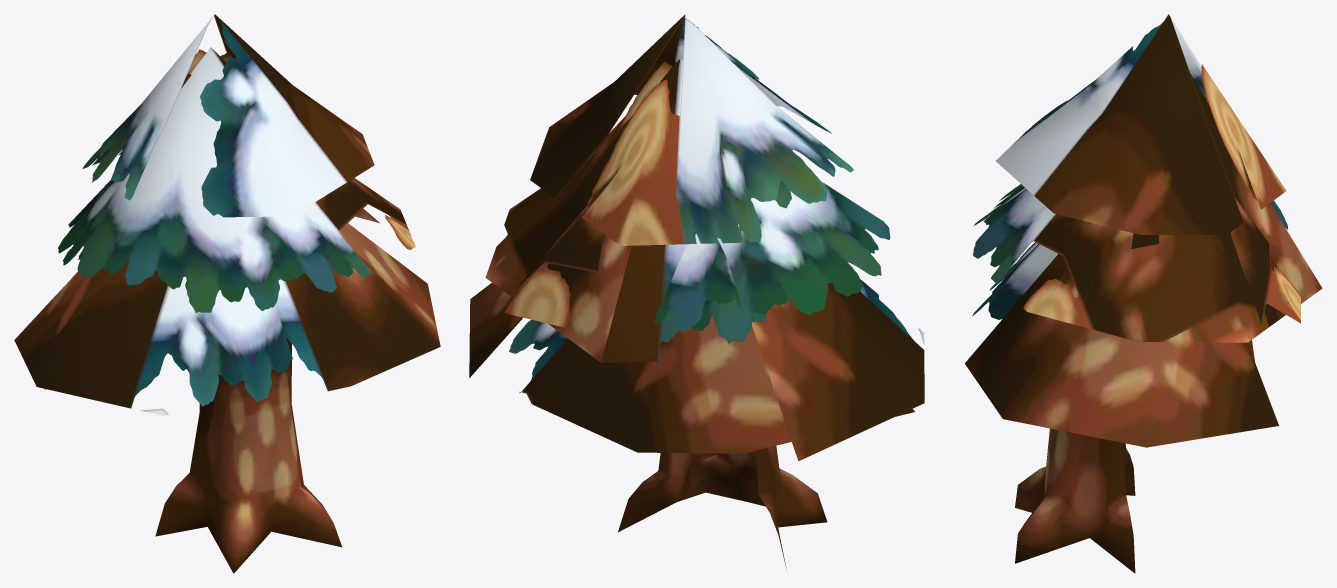
Rendered from fg_treeB_3.dae.
The picture shows the model from 3 angles, left to right: view 1: azimuth 30°, elevation 25°; view 2: azimuth 150°, elevation 25°; view 3: azimuth 270°, elevation 25°; orthographic projection. The views are drawn at different scales.
Visible parts, largest first — view 1: vsn_mesh_0_; view 2: vsn_mesh_0_; view 3: vsn_mesh_0_.
Boxes of the visible parts, box(x1,y1,x2,y2) form: vsn_mesh_0_: box(14, 14, 440, 573); vsn_mesh_0_: box(469, 14, 924, 569); vsn_mesh_0_: box(965, 14, 1322, 573).
Size of the model in its own units: 64.8 by 76.75 by 49.24.
